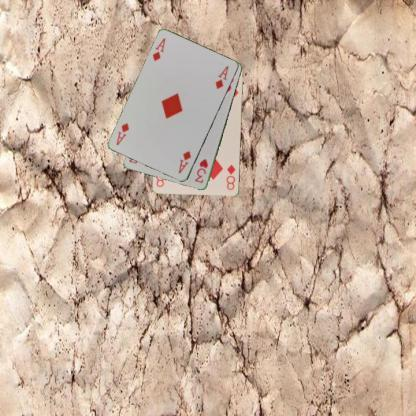3h: (192, 156, 210, 184)
8d: (223, 162, 237, 192)
Ad: (176, 148, 192, 176), (150, 36, 167, 62)
